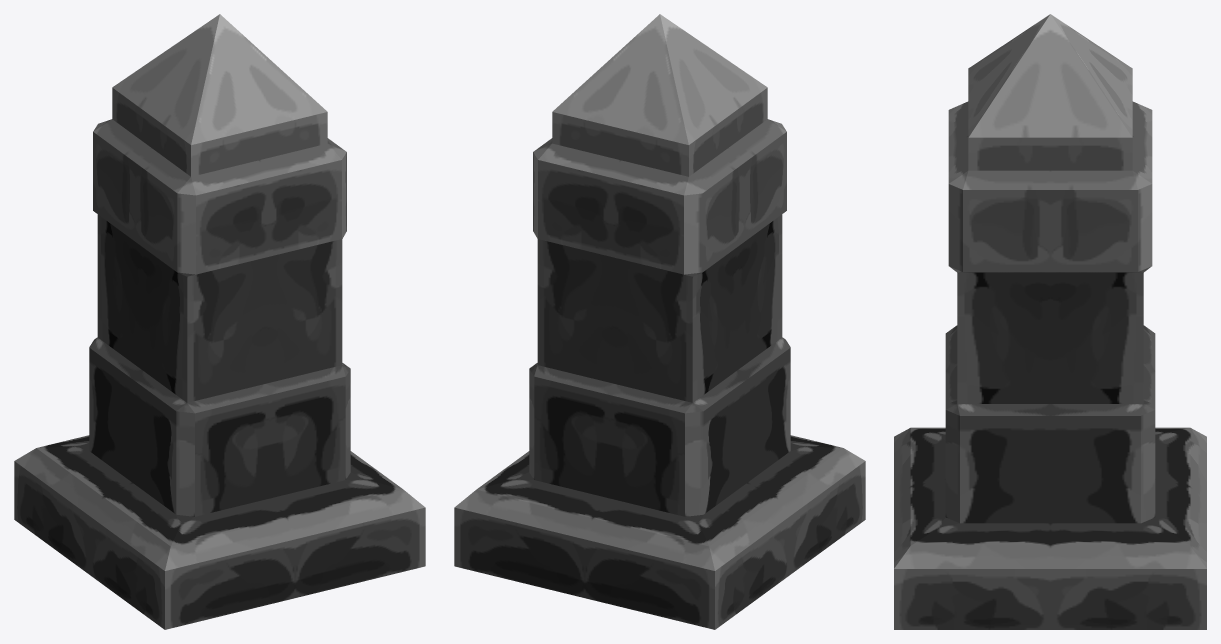
The model's file is VV-WalakuluBemmaElement-3.fbx.
The picture shows the model from 3 angles, left to right: view 1: azimuth 30°, elevation 25°; view 2: azimuth 150°, elevation 25°; view 3: azimuth 270°, elevation 25°; orthographic projection. The views are drawn at different scales.
Visible parts, largest first — view 1: WalakuluBemmaBlock-1; view 2: WalakuluBemmaBlock-1; view 3: WalakuluBemmaBlock-1.
Boxes of the visible parts, x1,y1,x2,y2 form: WalakuluBemmaBlock-1: [14, 14, 425, 629]; WalakuluBemmaBlock-1: [454, 14, 865, 629]; WalakuluBemmaBlock-1: [894, 14, 1206, 629].
Bounding box in the file's own units: 0.6355 × 1.23 × 0.6355.
